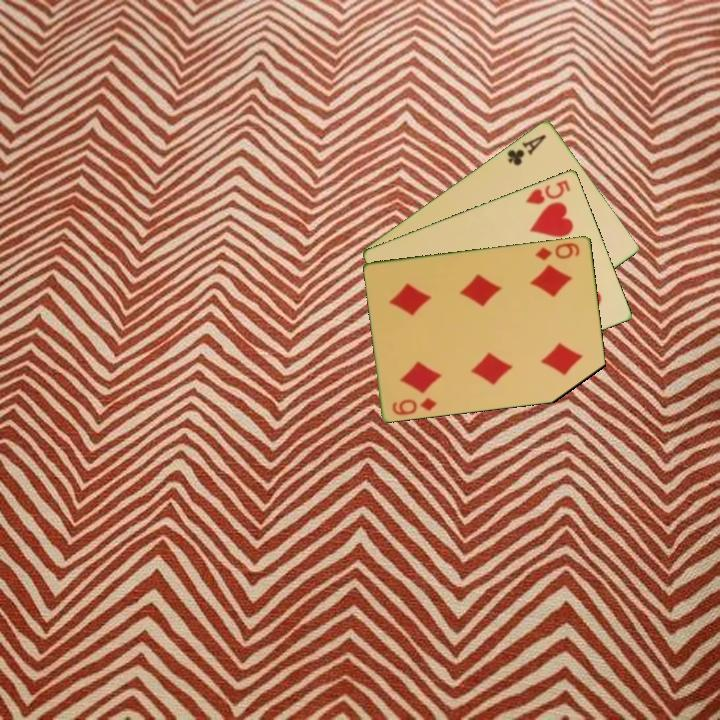5h: (522, 176, 574, 207)
6d: (532, 239, 583, 263), (389, 394, 440, 418)
Ac: (504, 130, 549, 168)
